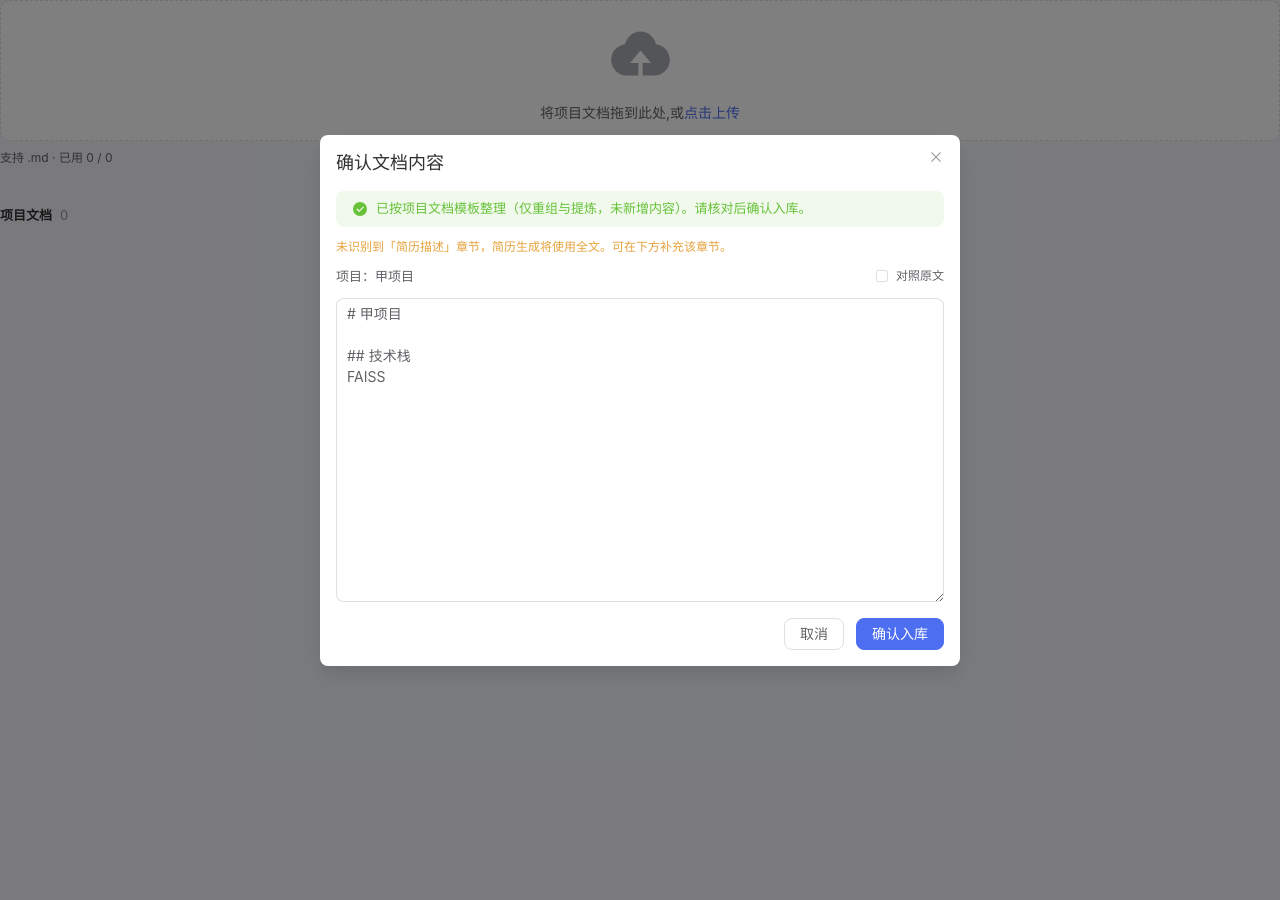
ProjectDocsPanel · 预处理预览 › 可切换对照原文
The width and height of the screenshot is (1280, 900).
Step 1. Click the checkbox labelled "对照原文" → click(910, 276), box [876,264,944,288]
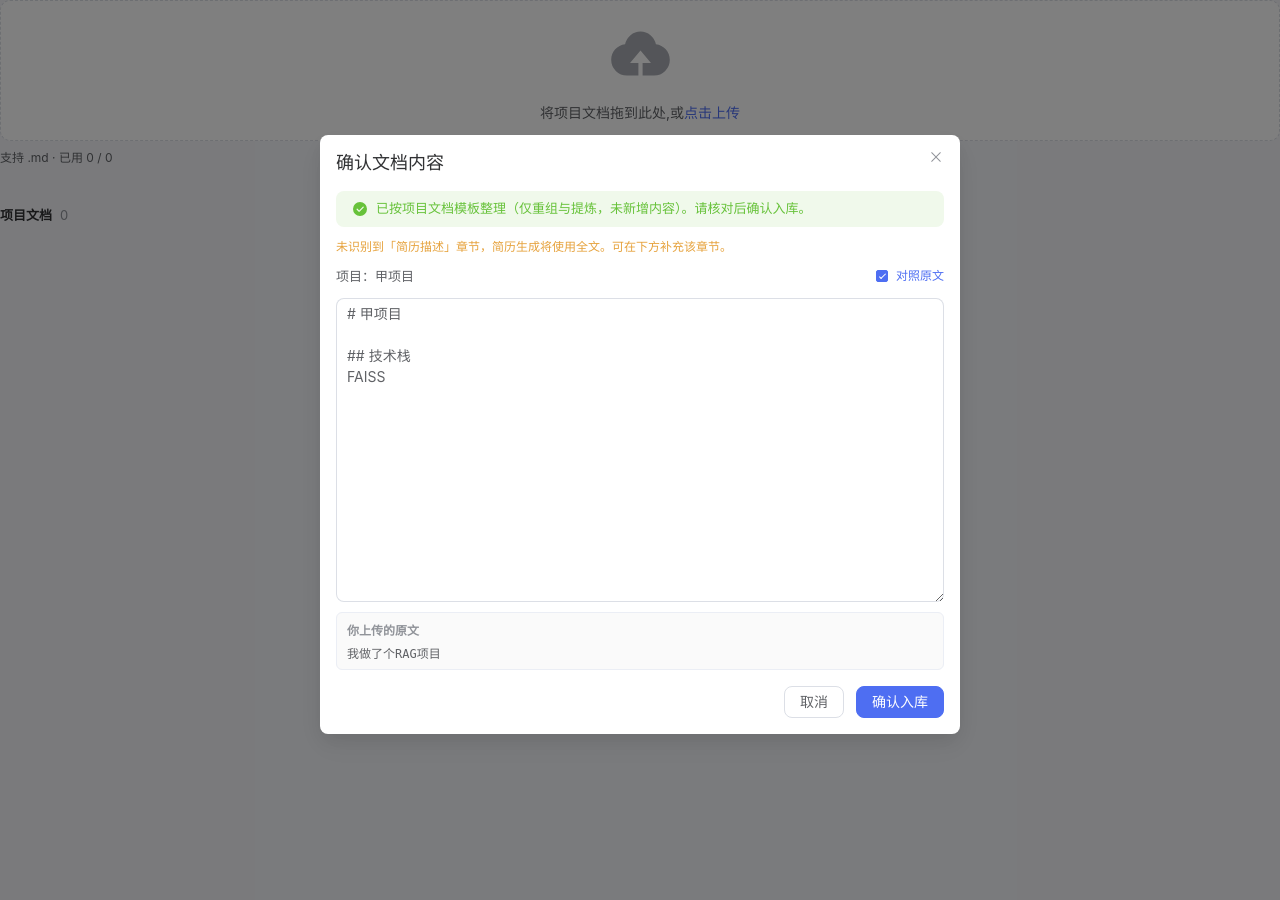
Result: the element with test id "preview-original" shows "我做了个RAG项目" at [347,646,441,660]
